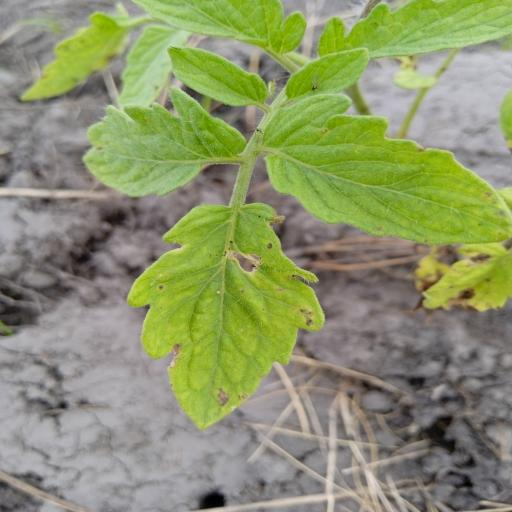Tomato_Brown_Spots: (130, 197, 329, 432), (261, 92, 512, 248), (81, 87, 250, 196), (304, 0, 512, 67)
